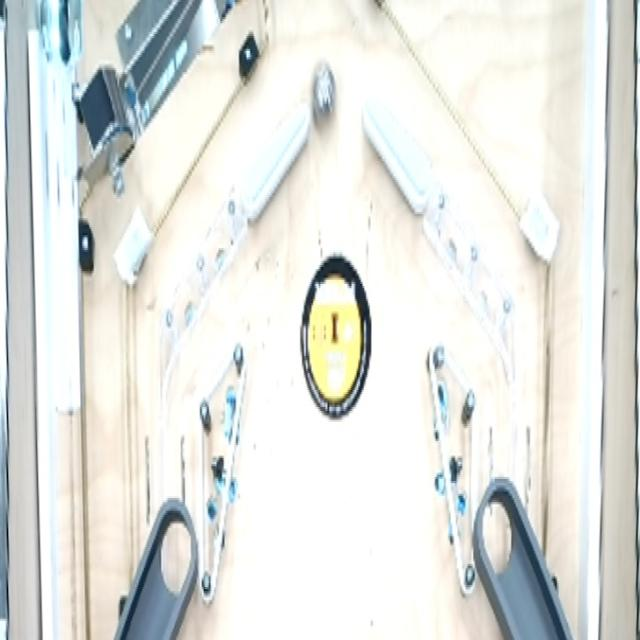ball: (310, 62, 340, 130)
flipper-left: (360, 96, 440, 221)
flipper-right: (240, 102, 310, 238)
